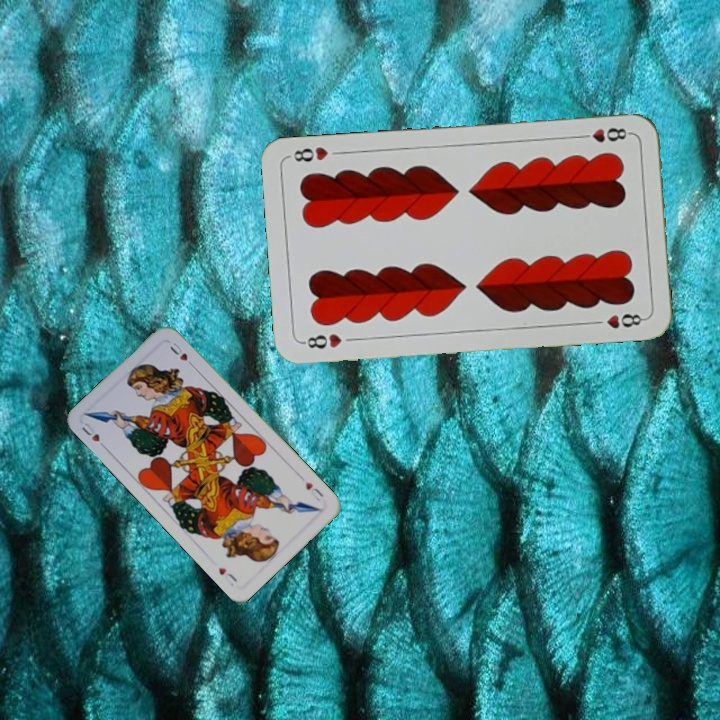H8: (574, 124, 634, 145), (298, 329, 344, 351)
HU: (77, 419, 109, 452), (301, 477, 326, 504)
